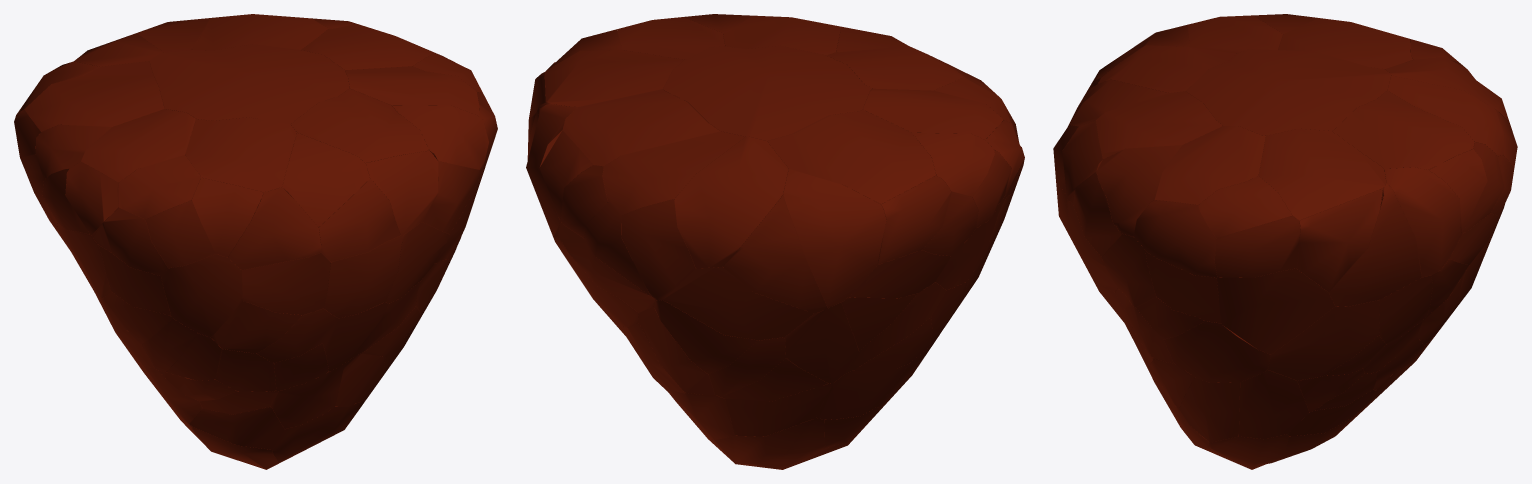
File: Rock1_Fractured.fbx
3 renders of one model, left to right at view 1: azimuth 30°, elevation 25°; view 2: azimuth 150°, elevation 25°; view 3: azimuth 270°, elevation 25°, orthographic. The views are drawn at different scales.
Visible parts, largest first — view 1: Object_3_cell.024, Object_3_cell.080, Object_3_cell.054, Object_3_cell.084, Object_3_cell.063, Object_3_cell.061, Object_3_cell.083, Object_3_cell.047, Object_3_cell.066, Object_3_cell.082, Object_3_cell.095, Object_3_cell.003 (+43 smaller); view 2: Object_3_cell.024, Object_3_cell.054, Object_3_cell.045, Object_3_cell.074, Object_3_cell.050, Object_3_cell.088, Object_3_cell.097, Object_3_cell.069, Object_3_cell.017, Object_3_cell.025, Object_3_cell.063, Object_3_cell.021 (+37 smaller); view 3: Object_3_cell.024, Object_3_cell.017, Object_3_cell.042, Object_3_cell.050, Object_3_cell.082, Object_3_cell.049, Object_3_cell.059, Object_3_cell.084, Object_3_cell.012, Object_3_cell.056, Object_3_cell.031, Object_3_cell.055 (+41 smaller).
Part boxes in pixels (left/top/right/bottom): Object_3_cell.024: left=149, top=44, right=349, bottom=124; Object_3_cell.080: left=185, top=117, right=296, bottom=192; Object_3_cell.054: left=25, top=61, right=164, bottom=131; Object_3_cell.084: left=290, top=88, right=429, bottom=162; Object_3_cell.063: left=81, top=109, right=195, bottom=182; Object_3_cell.061: left=282, top=133, right=369, bottom=227; Object_3_cell.083: left=161, top=254, right=242, bottom=337; Object_3_cell.047: left=228, top=187, right=321, bottom=270; Object_3_cell.066: left=242, top=252, right=330, bottom=315; Object_3_cell.082: left=345, top=66, right=479, bottom=116; Object_3_cell.095: left=324, top=235, right=402, bottom=318; Object_3_cell.003: left=318, top=178, right=400, bottom=261; Object_3_cell.024: left=663, top=45, right=871, bottom=140; Object_3_cell.054: left=767, top=109, right=935, bottom=204; Object_3_cell.045: left=674, top=136, right=788, bottom=268; Object_3_cell.074: left=783, top=169, right=886, bottom=307; Object_3_cell.050: left=562, top=89, right=719, bottom=166; Object_3_cell.088: left=663, top=267, right=813, bottom=340; Object_3_cell.097: left=602, top=131, right=744, bottom=215; Object_3_cell.069: left=723, top=188, right=827, bottom=313; Object_3_cell.017: left=544, top=50, right=684, bottom=106; Object_3_cell.025: left=621, top=199, right=695, bottom=300; Object_3_cell.063: left=863, top=88, right=1003, bottom=139; Object_3_cell.021: left=878, top=175, right=951, bottom=264; Object_3_cell.024: left=1186, top=49, right=1390, bottom=135; Object_3_cell.017: left=1258, top=128, right=1386, bottom=220; Object_3_cell.042: left=1217, top=268, right=1334, bottom=354; Object_3_cell.050: left=1332, top=90, right=1474, bottom=169; Object_3_cell.082: left=1154, top=126, right=1265, bottom=204; Object_3_cell.049: left=1329, top=183, right=1421, bottom=306; Object_3_cell.059: left=1296, top=188, right=1383, bottom=292; Object_3_cell.084: left=1096, top=91, right=1222, bottom=159; Object_3_cell.012: left=1267, top=300, right=1379, bottom=380; Object_3_cell.056: left=1384, top=167, right=1461, bottom=277; Object_3_cell.031: left=1133, top=200, right=1217, bottom=277; Object_3_cell.055: left=1164, top=321, right=1270, bottom=382.
Size of the model in its own units: 804 by 698 by 756.
